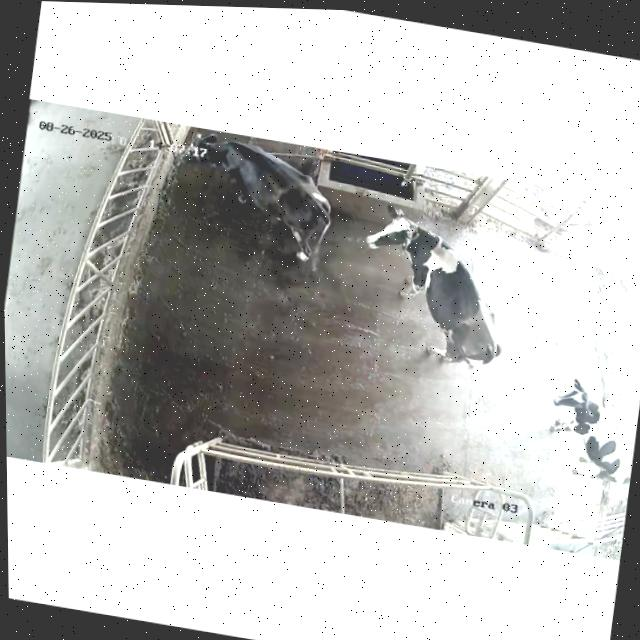stand: (342, 194, 529, 389), (169, 125, 347, 275), (535, 360, 640, 501)
